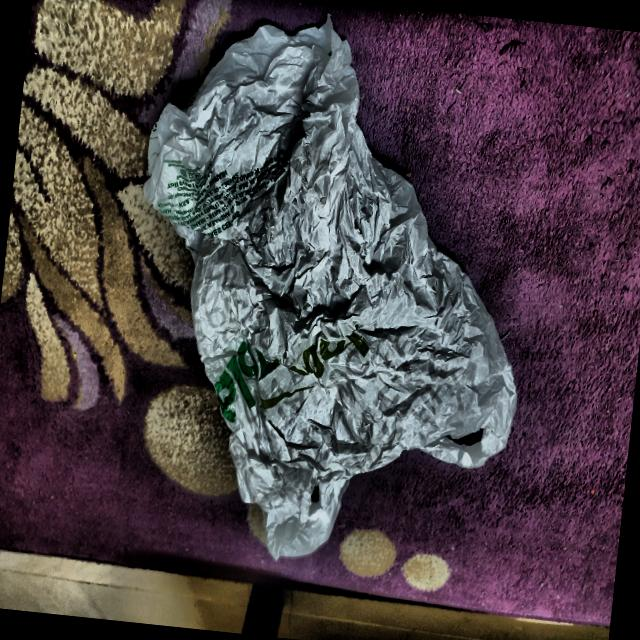plastic bag: (103, 0, 558, 587)
